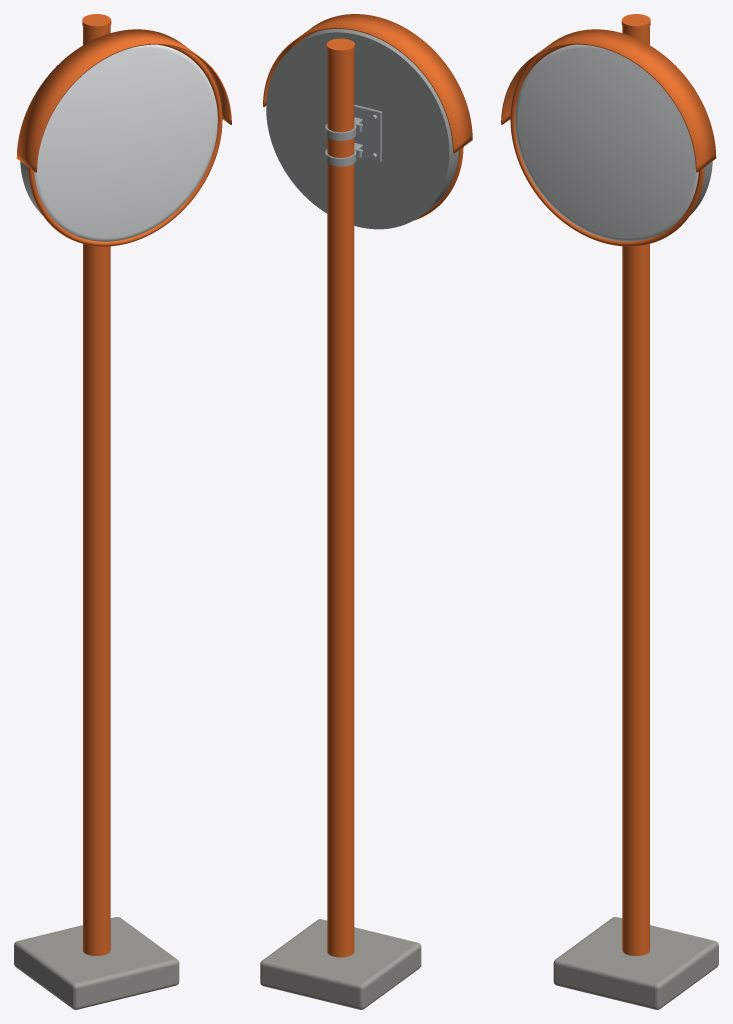
The model's file is roadside_convex_mirror.glb.
The picture shows the model from 3 angles, left to right: view 1: azimuth 30°, elevation 25°; view 2: azimuth 150°, elevation 25°; view 3: azimuth 330°, elevation 25°; orthographic projection. The views are drawn at different scales.
Visible parts, largest first — view 1: Convex silvered 600mm mirror face, Orange steel support pole, Concrete footing visible collar, Upper orange rain hood, Rolled aluminum retaining rim; view 2: Orange steel support pole, Molded shallow FRP rear shell, Concrete footing visible collar, Upper orange rain hood, Rear steel attachment plate; view 3: Convex silvered 600mm mirror face, Orange steel support pole, Concrete footing visible collar, Upper orange rain hood, Rolled aluminum retaining rim.
Part boxes in pixels (bbox=[...]): Convex silvered 600mm mirror face: bbox=[34, 44, 217, 241]; Orange steel support pole: bbox=[83, 26, 110, 955]; Concrete footing visible collar: bbox=[14, 917, 179, 1009]; Upper orange rain hood: bbox=[16, 29, 231, 172]; Rolled aluminum retaining rim: bbox=[28, 44, 222, 246]; Orange steel support pole: bbox=[327, 50, 354, 957]; Molded shallow FRP rear shell: bbox=[266, 29, 458, 229]; Concrete footing visible collar: bbox=[260, 919, 421, 1009]; Upper orange rain hood: bbox=[263, 14, 472, 153]; Rear steel attachment plate: bbox=[354, 105, 381, 162]; Convex silvered 600mm mirror face: bbox=[515, 44, 698, 241]; Orange steel support pole: bbox=[622, 26, 649, 955]; Concrete footing visible collar: bbox=[553, 917, 718, 1009]; Upper orange rain hood: bbox=[501, 29, 716, 172]; Rolled aluminum retaining rim: bbox=[510, 44, 704, 246].
Size of the model in its own units: 0.624 by 2.91 by 0.375.
